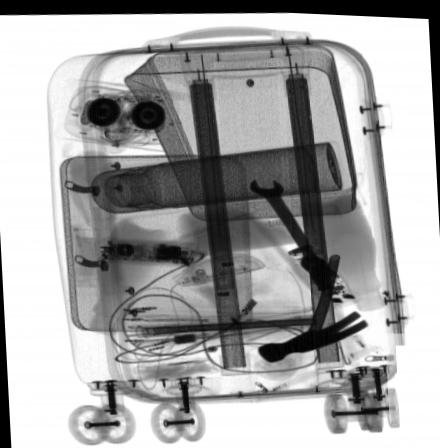Hammer: (256, 250, 370, 362)
Wrench: (247, 176, 328, 270)
